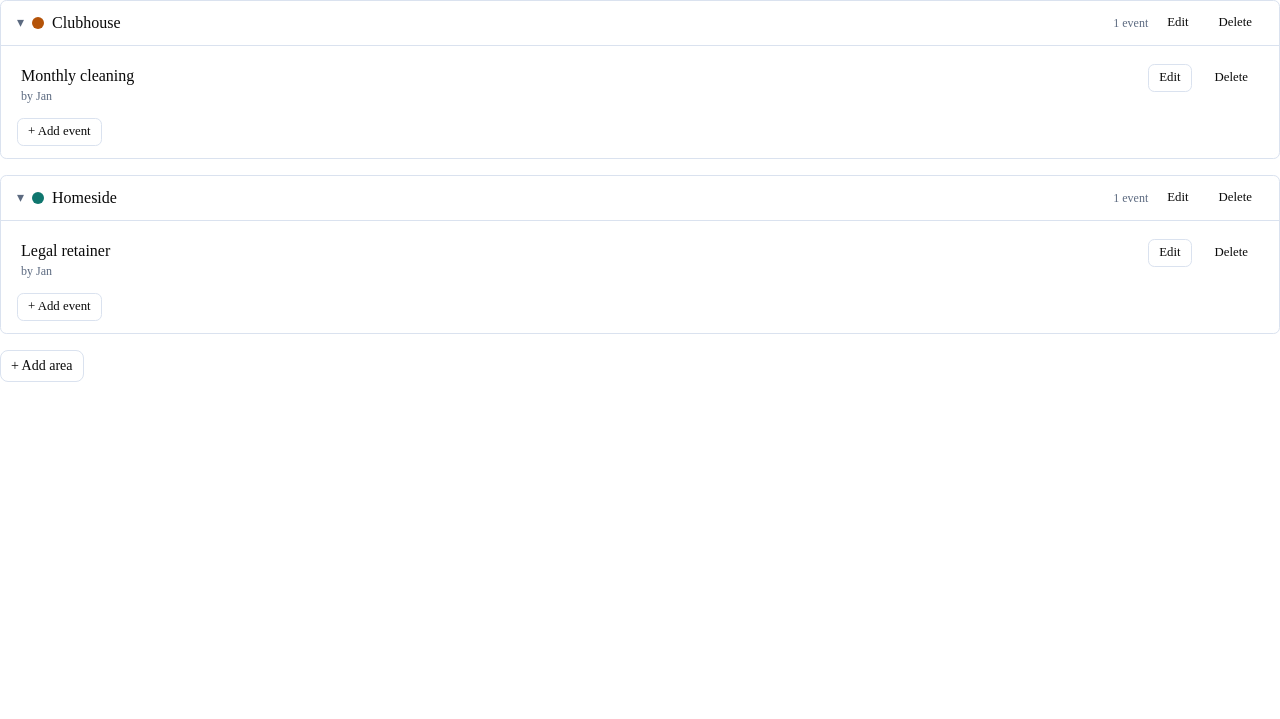
it: CalendarAdmin › fills all twelve months when 'Every month' is clicked
Step 1. Click the button "+ Add event" below "Monthly cleaning" → {"x": 59, "y": 132}, box [17, 118, 102, 146]
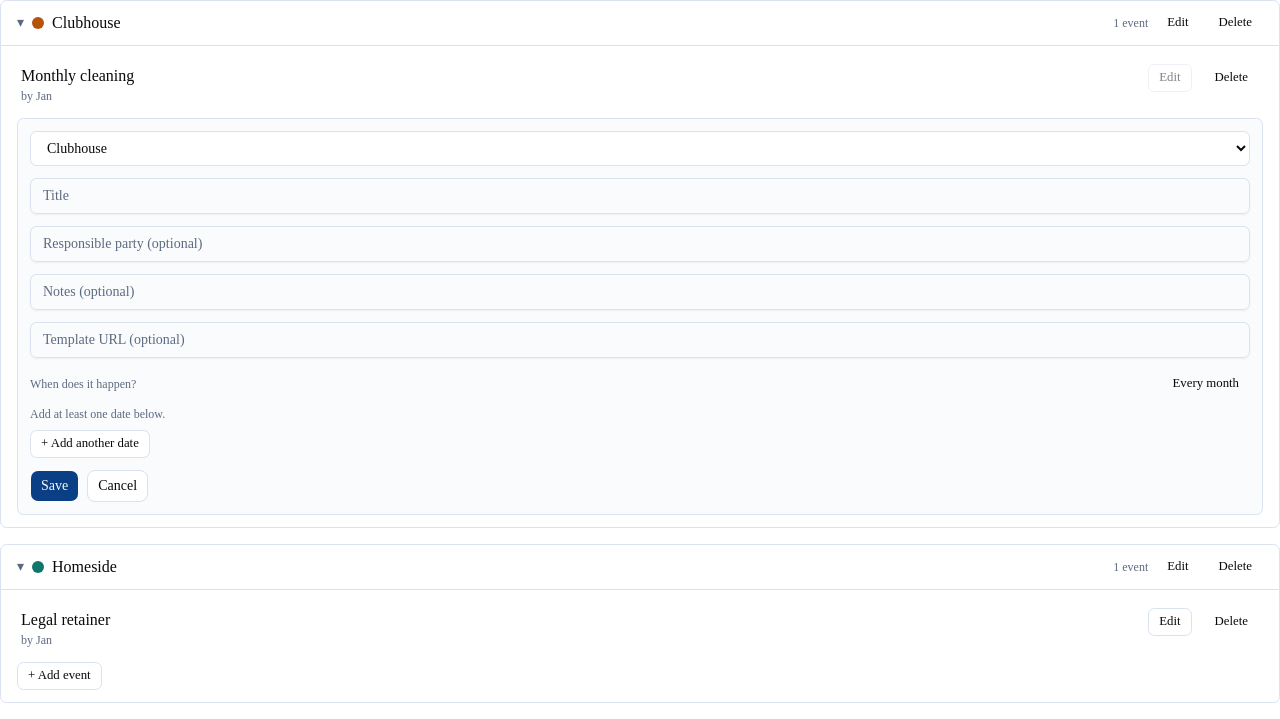
Step 2. Click the button "Every month" → {"x": 1206, "y": 384}, box [1162, 370, 1250, 398]
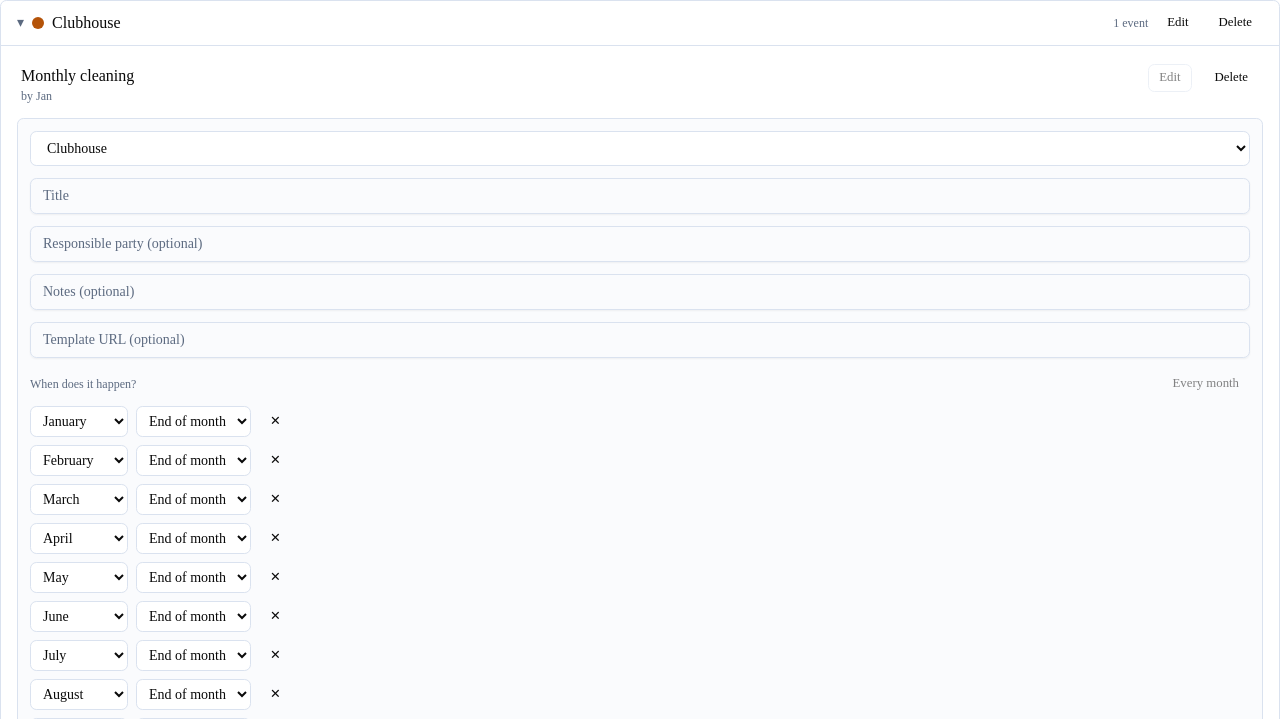
Expected: the number of dropdowns named "Month" is 12
